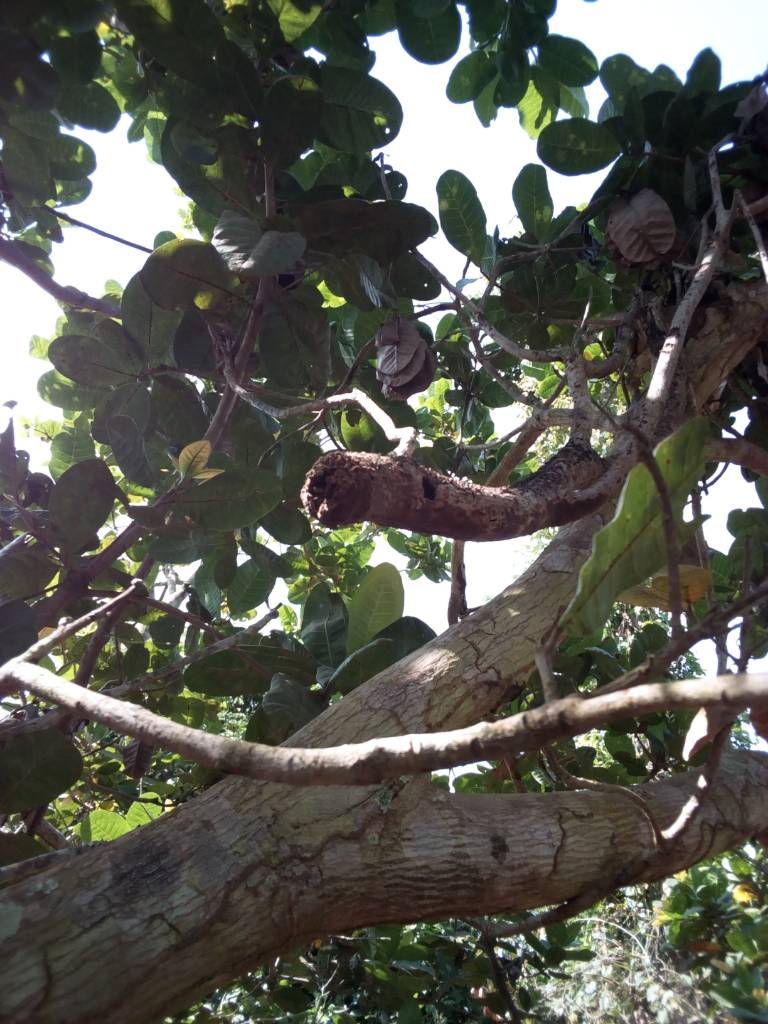Analepse trifasciata: (299, 436, 394, 535)
